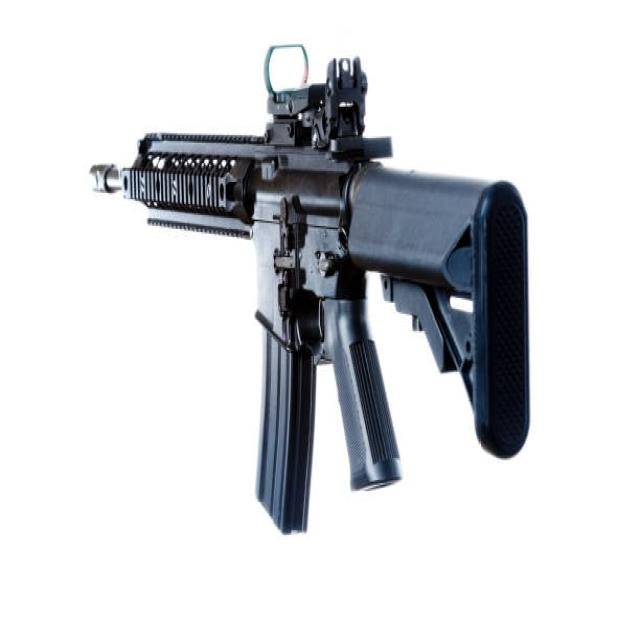rifle: (82, 32, 548, 550)
